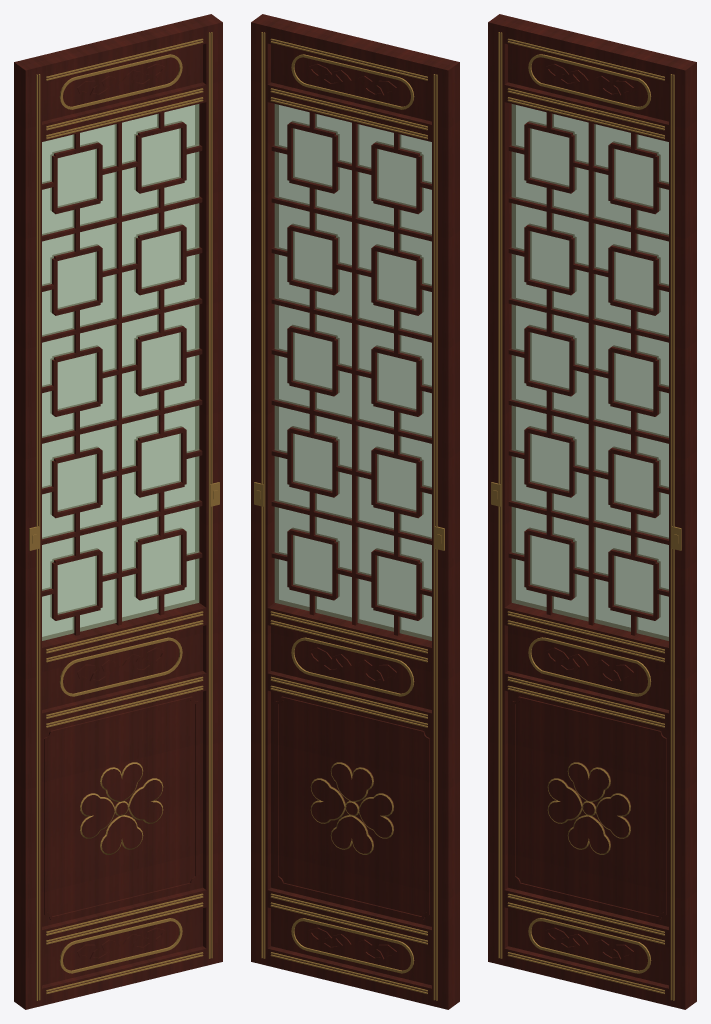
Rendered from geshan-v1.glb.
The picture shows the model from 3 angles, left to right: view 1: azimuth 30°, elevation 25°; view 2: azimuth 150°, elevation 25°; view 3: azimuth 330°, elevation 25°; orthographic projection.
Visible parts, largest first — view 1: geshan, geshan_sha, geshan_gold, geshan_ruyi; view 2: geshan, geshan_sha, geshan_gold, geshan_ruyi; view 3: geshan, geshan_sha, geshan_gold, geshan_ruyi.
Part boxes in pixels (x1,y1,x2,y2): geshan: (14,14,222,1009); geshan_sha: (42,104,199,640); geshan_gold: (29,32,219,1000); geshan_ruyi: (79,762,162,853); geshan: (251,14,459,1009); geshan_sha: (274,104,431,640); geshan_gold: (254,32,444,1000); geshan_ruyi: (311,762,394,853); geshan: (488,14,696,1009); geshan_sha: (511,104,668,640); geshan_gold: (491,32,681,1000); geshan_ruyi: (548,762,630,853).
Size of the model in its own units: 0.6001 by 2.73 by 0.0721.
Materials: 3 (1 with a texture image).
